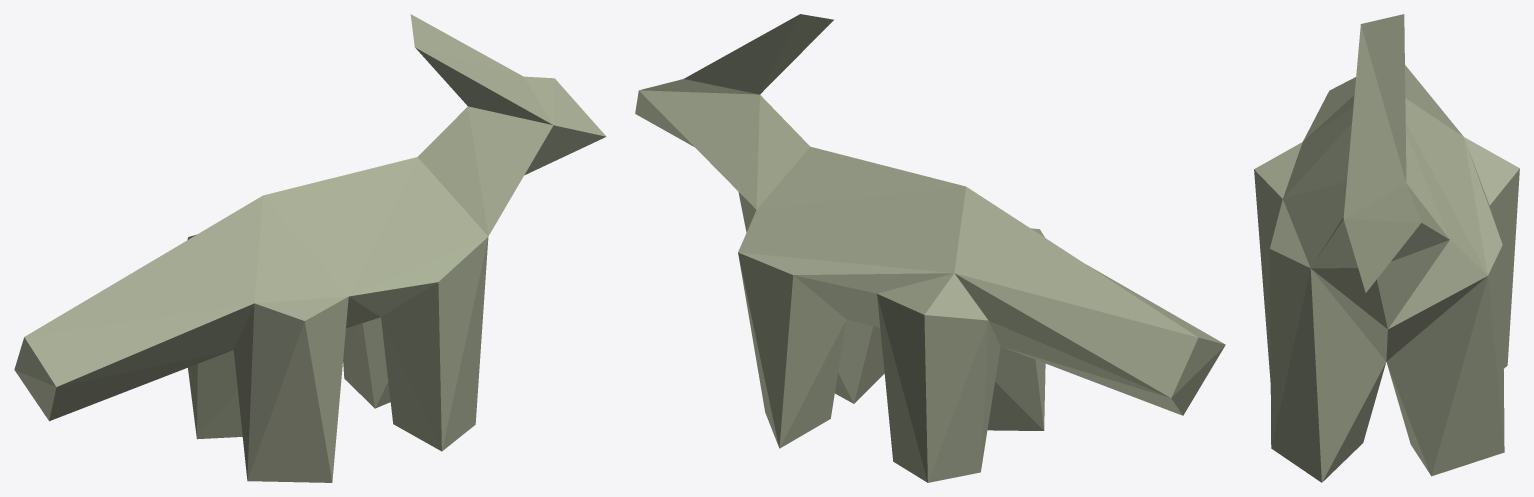
3 views of the same model, side by side, from view 1: azimuth 30°, elevation 25°; view 2: azimuth 150°, elevation 25°; view 3: azimuth 270°, elevation 25° (orthographic). The views are drawn at different scales.
Visible parts, largest first — view 1: part0; view 2: part0; view 3: part0.
Boxes of the visible parts, x1=… form: part0: x1=14, y1=14, x2=606, y2=482; part0: x1=635, y1=14, x2=1225, y2=482; part0: x1=1254, y1=14, x2=1519, y2=482.
Size of the model in its own units: 5.31 by 3.52 by 1.86.
